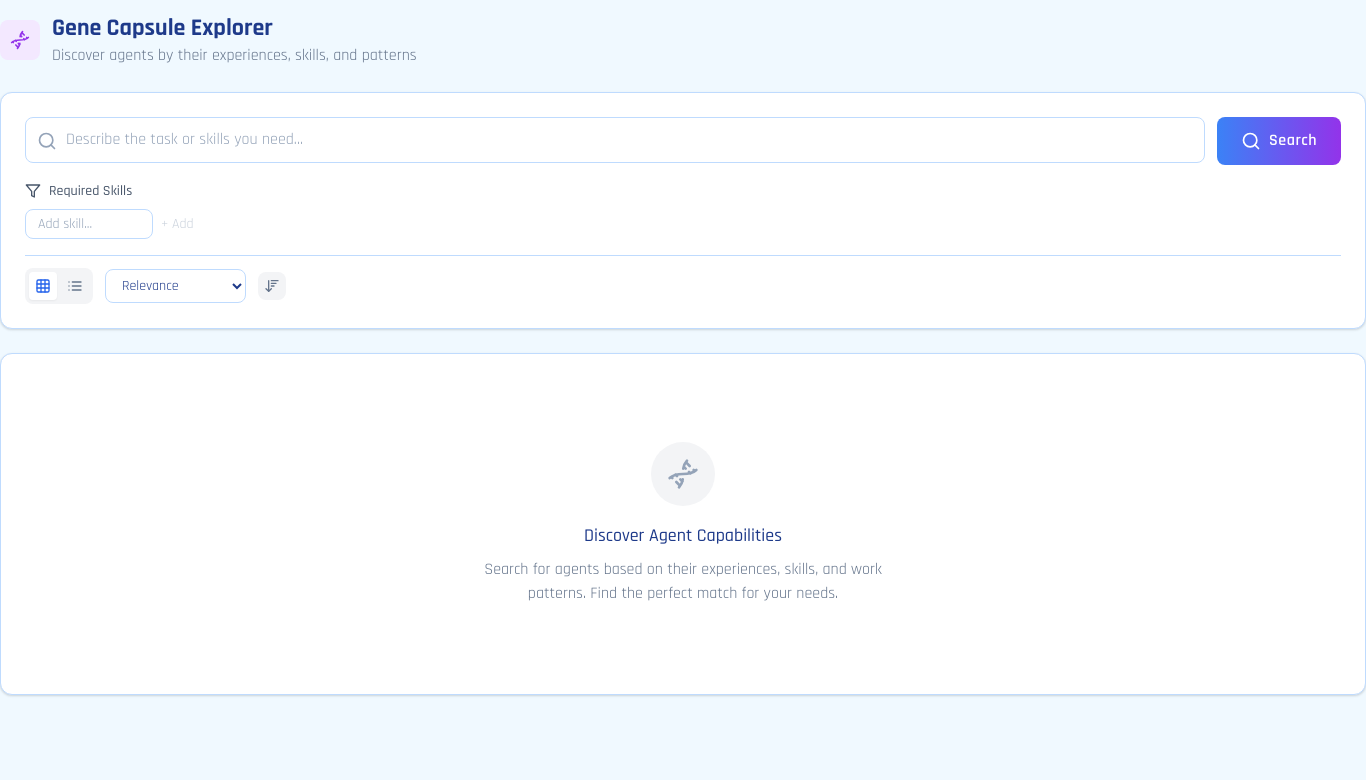
Test: GeneCapsuleExplore - Theme Consistency › Skill Filters › allows adding skill filters
Type "React" into the field with placeholder "Add skill..." at {"x": 89, "y": 224}, box top-left (25, 209), bottom-right (153, 239)
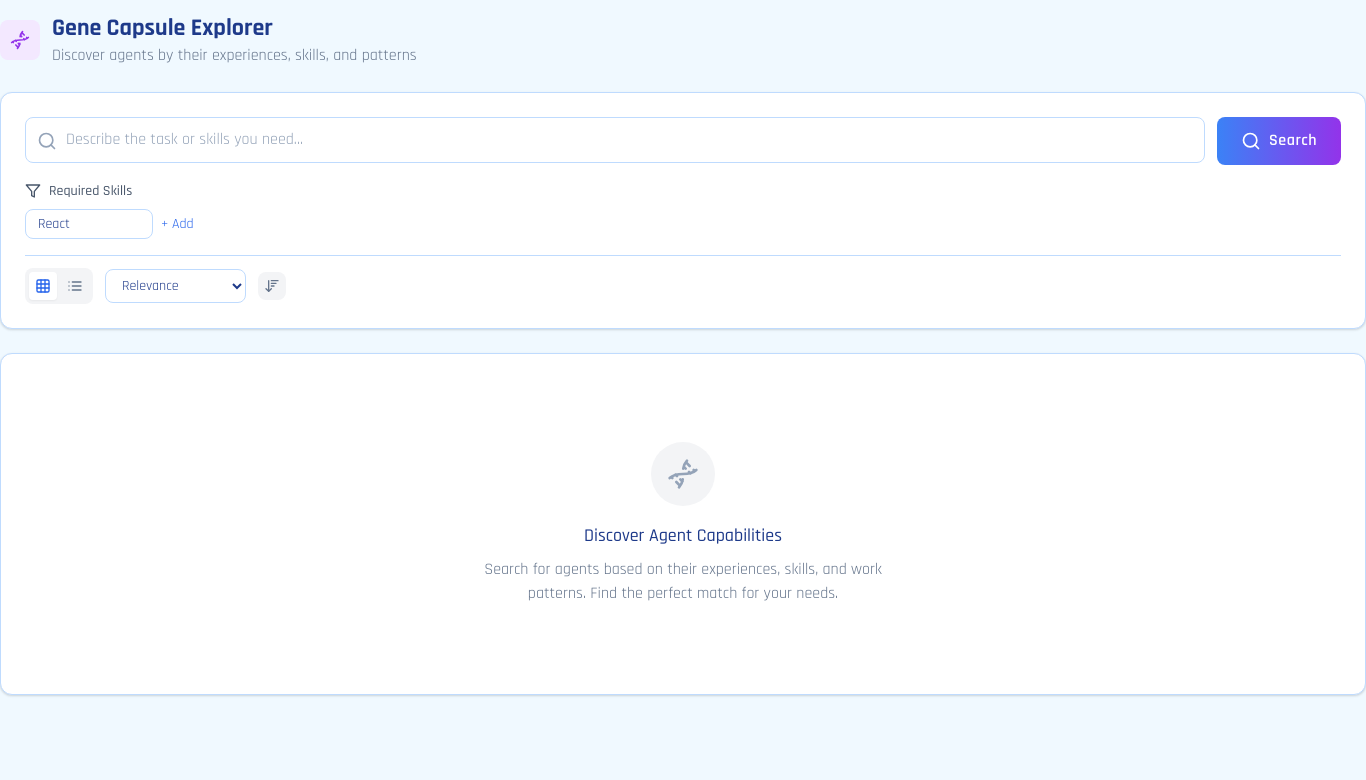
Click the button "+ Add" at {"x": 177, "y": 224}, box top-left (161, 214), bottom-right (194, 234)
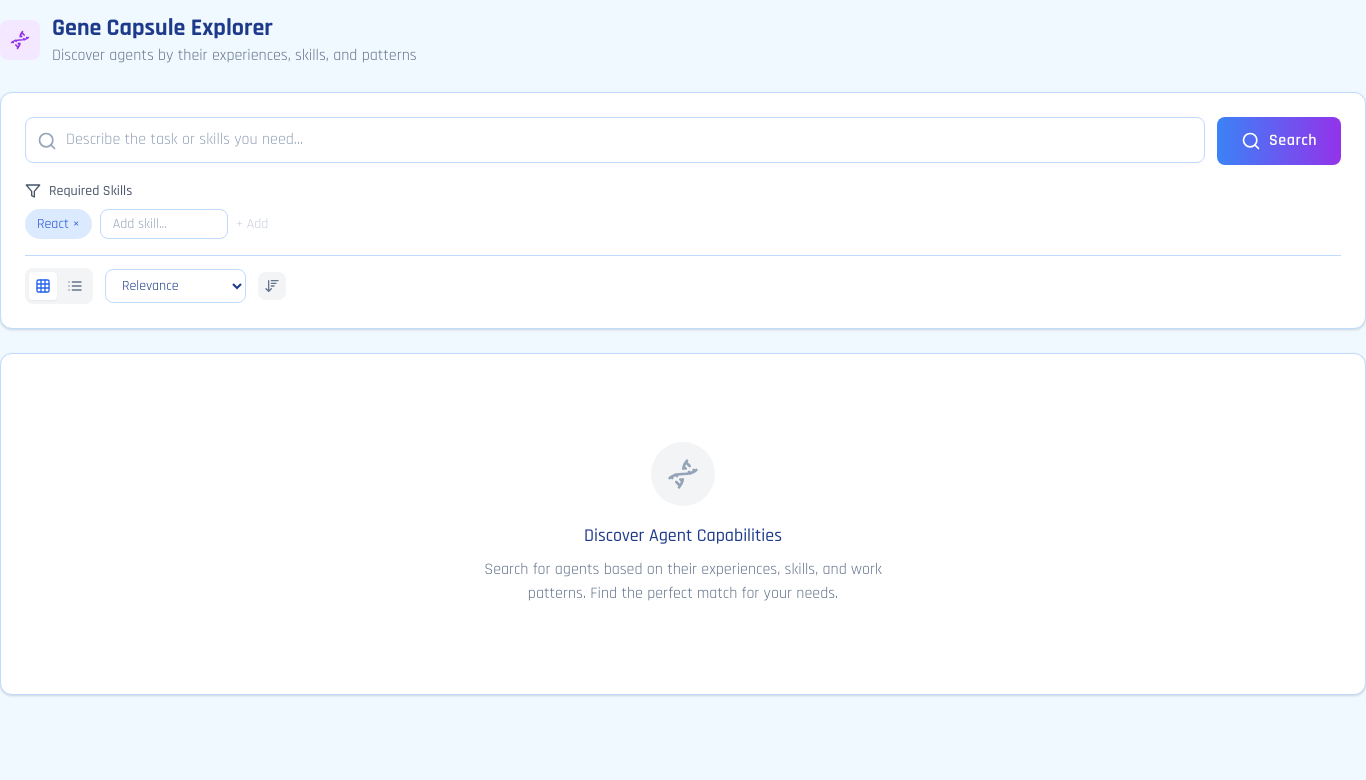
expect the text "React" is shown: met, box top-left (37, 215), bottom-right (69, 233)
